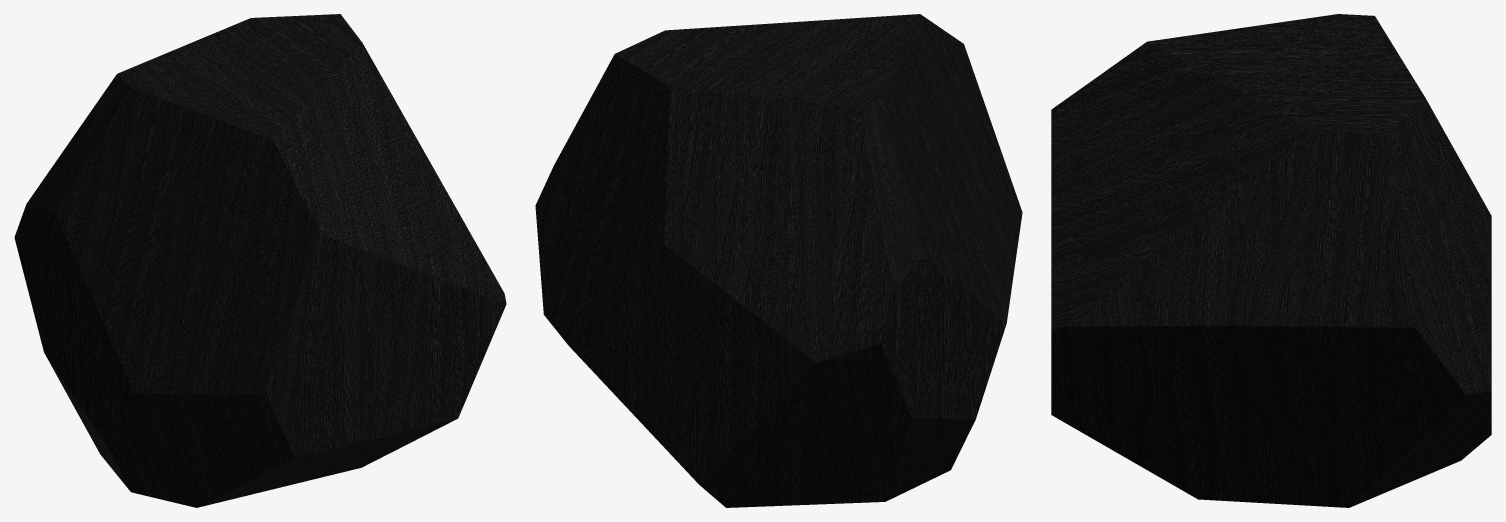
The model's file is LargePiece02.fbx.
The picture shows the model from 3 angles, left to right: view 1: azimuth 30°, elevation 25°; view 2: azimuth 150°, elevation 25°; view 3: azimuth 270°, elevation 25°; orthographic projection. The views are drawn at different scales.
Parts seen in each view (by area): view 1: node_id7; view 2: node_id7; view 3: node_id7.
Boxes of the visible parts, x1,y1,x2,y2 form: node_id7: (14,14,506,507); node_id7: (535,14,1022,507); node_id7: (1051,14,1491,507).
Size of the model in its own units: 0.5057 by 0.512 by 0.512.
Materials: 2 (2 with a texture image).
